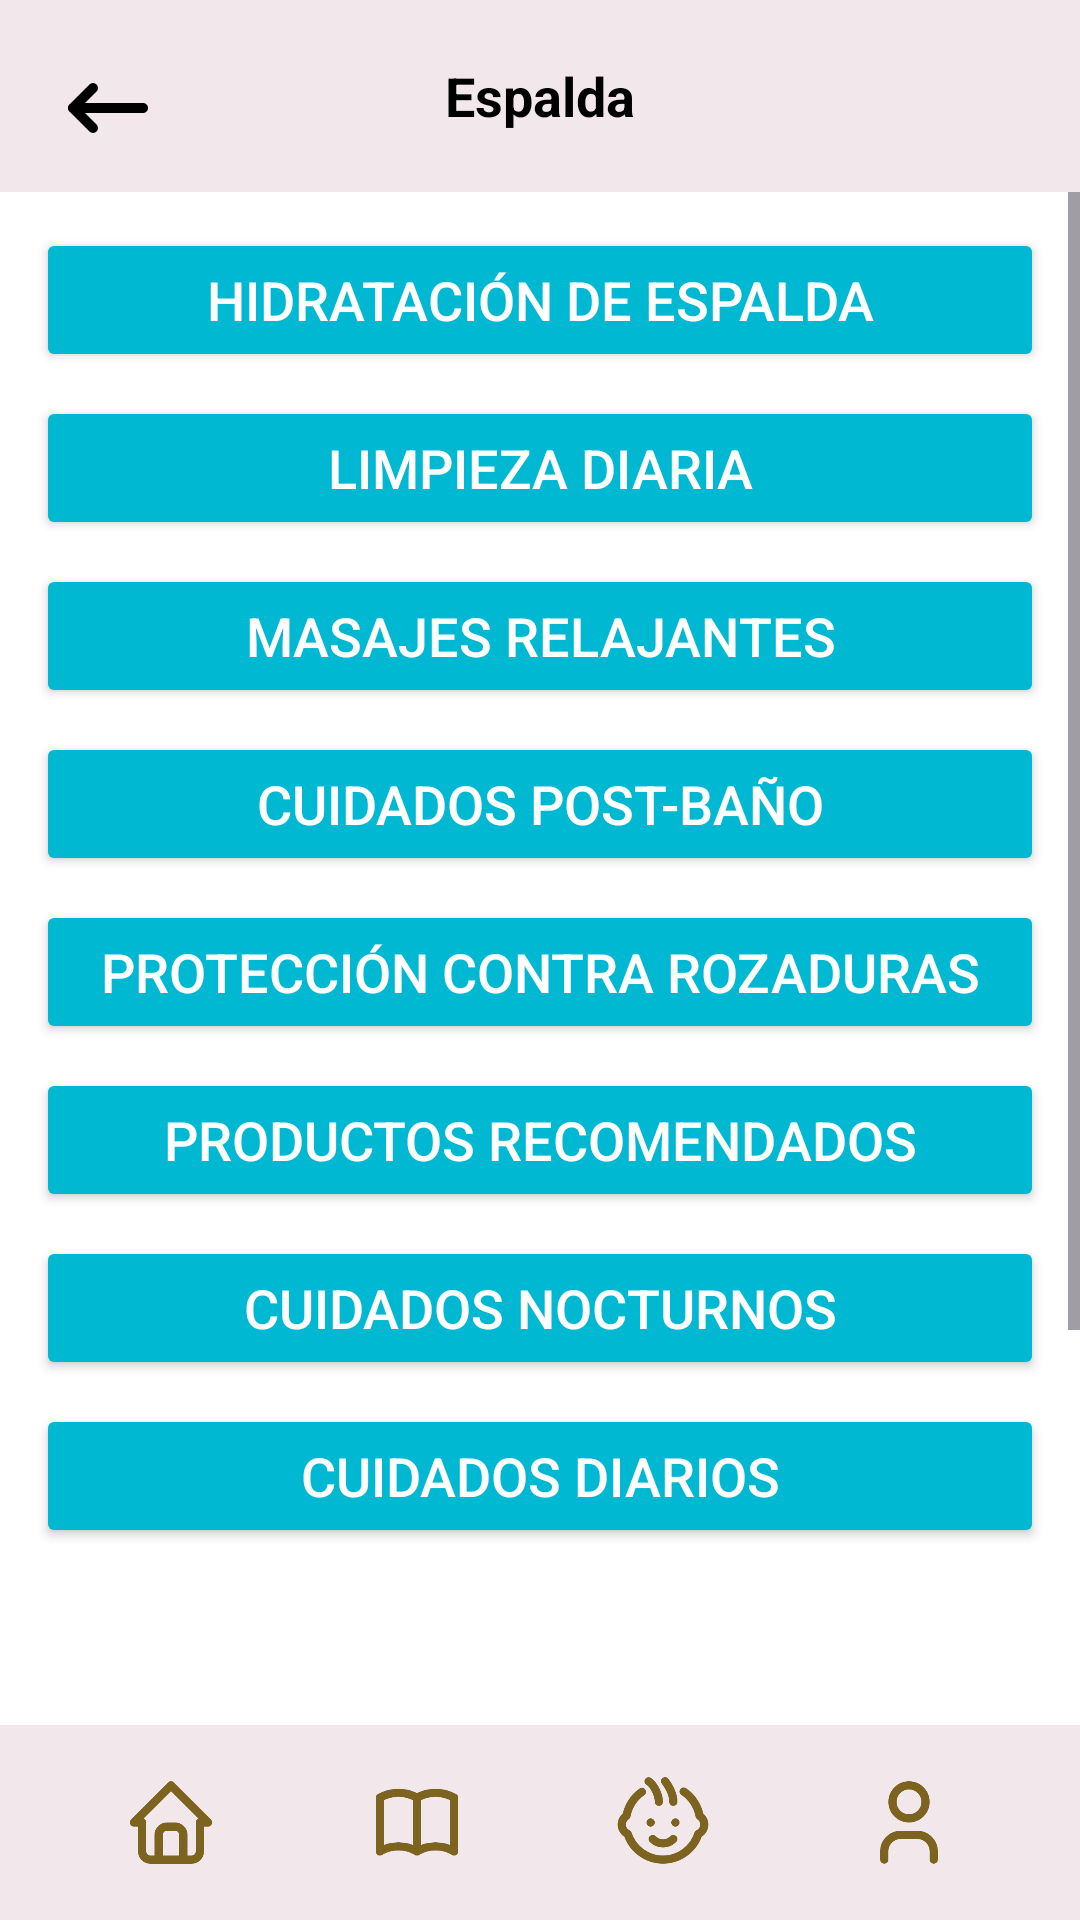

Locate icon controls on the screen. Image size 1080px x 1920px, boxes as (x1, y1, x2, y2).
book: (376, 1789, 458, 1856)
home: (130, 1781, 212, 1864)
moodboy: (617, 1777, 709, 1864)
personaa: (880, 1781, 938, 1864)
